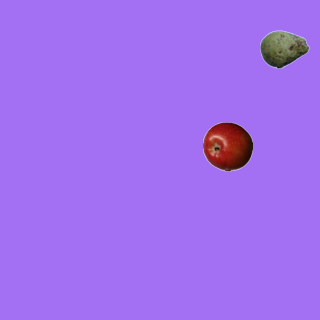Apple Braeburn: (202, 121, 252, 171)
Pear Stone: (259, 24, 309, 74)
